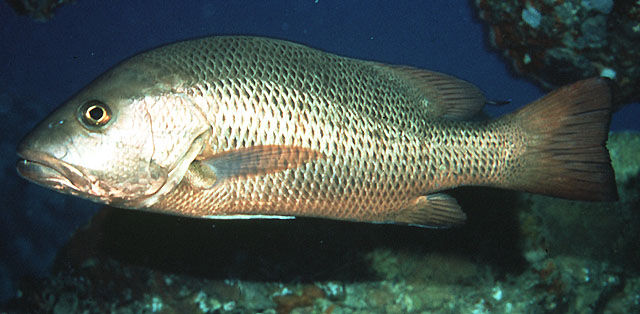fish: (15, 34, 620, 229)
